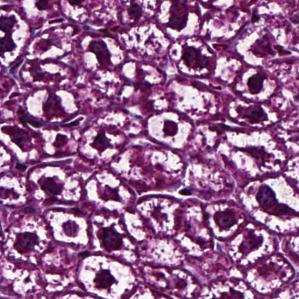inflammation: (77, 256, 140, 299), (144, 109, 196, 150), (27, 165, 83, 203), (233, 65, 280, 101)
